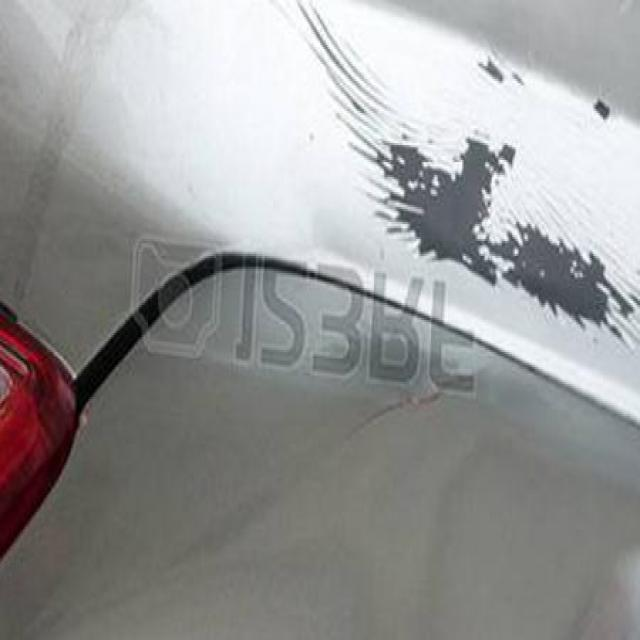scratch: (272, 11, 636, 358)
